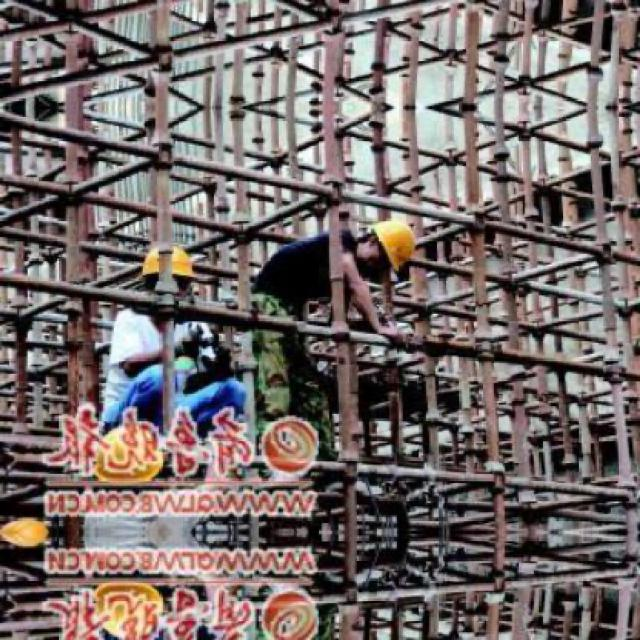helmet: (359, 212, 423, 272), (140, 246, 195, 302)
